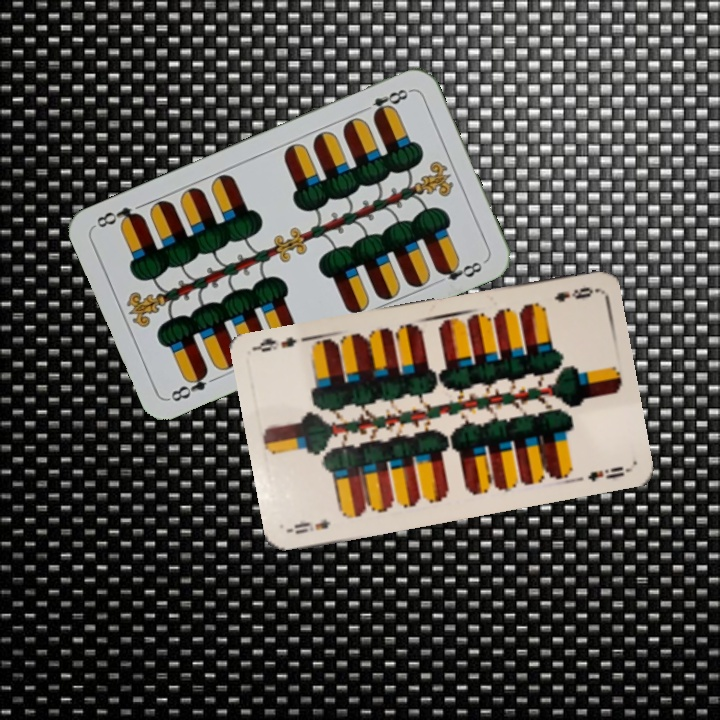E8: (357, 84, 413, 120), (165, 365, 211, 405)
E9: (286, 515, 333, 537), (550, 283, 596, 305)
